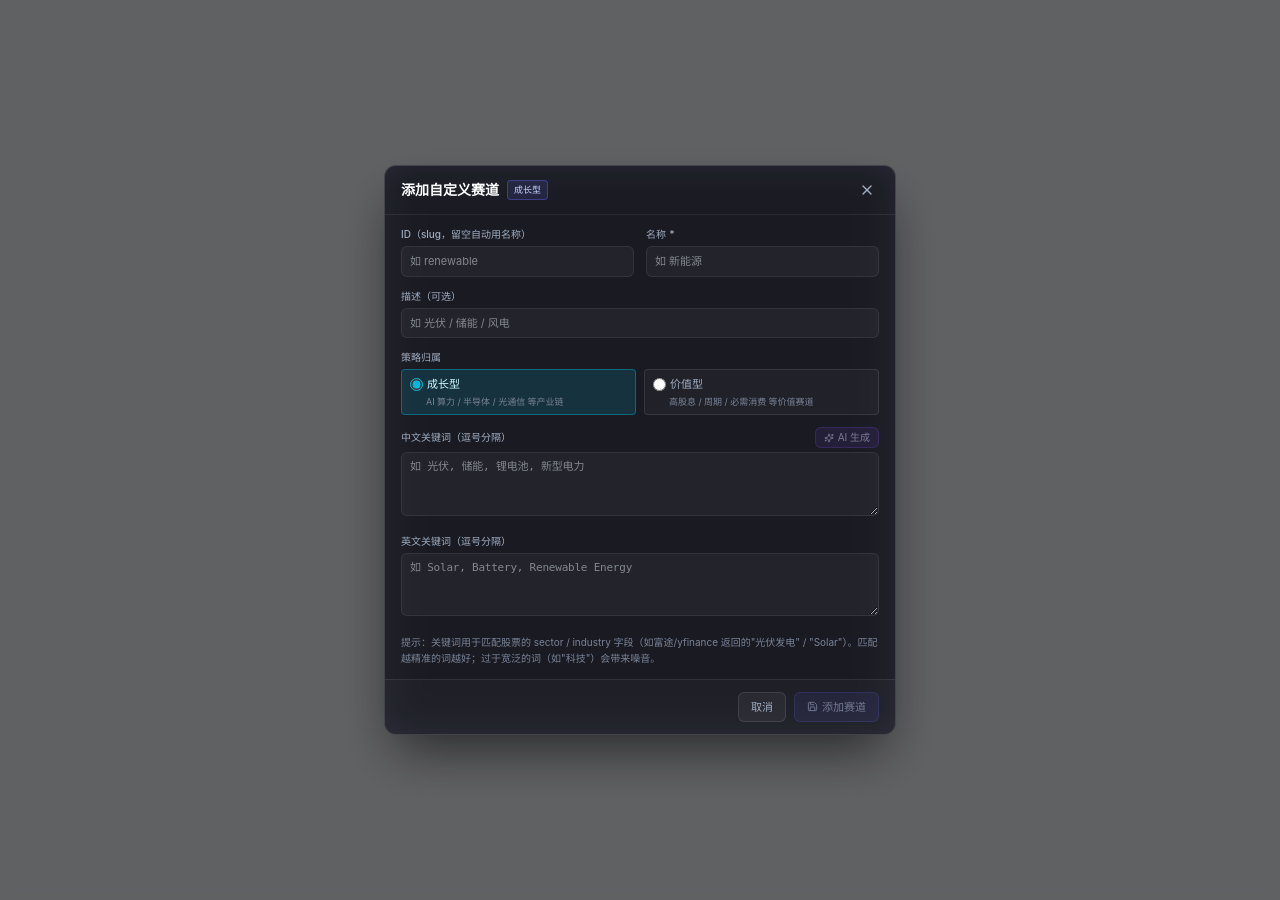
AddSupertrendDialog › 填了名称但关键词全空 → 保存触发校验错误
// 找名称 input — 通过 placeholder 区分
Type "测试赛道" into the field with placeholder "如 新能源". click: point(762, 261)
box: [646,246,879,276]
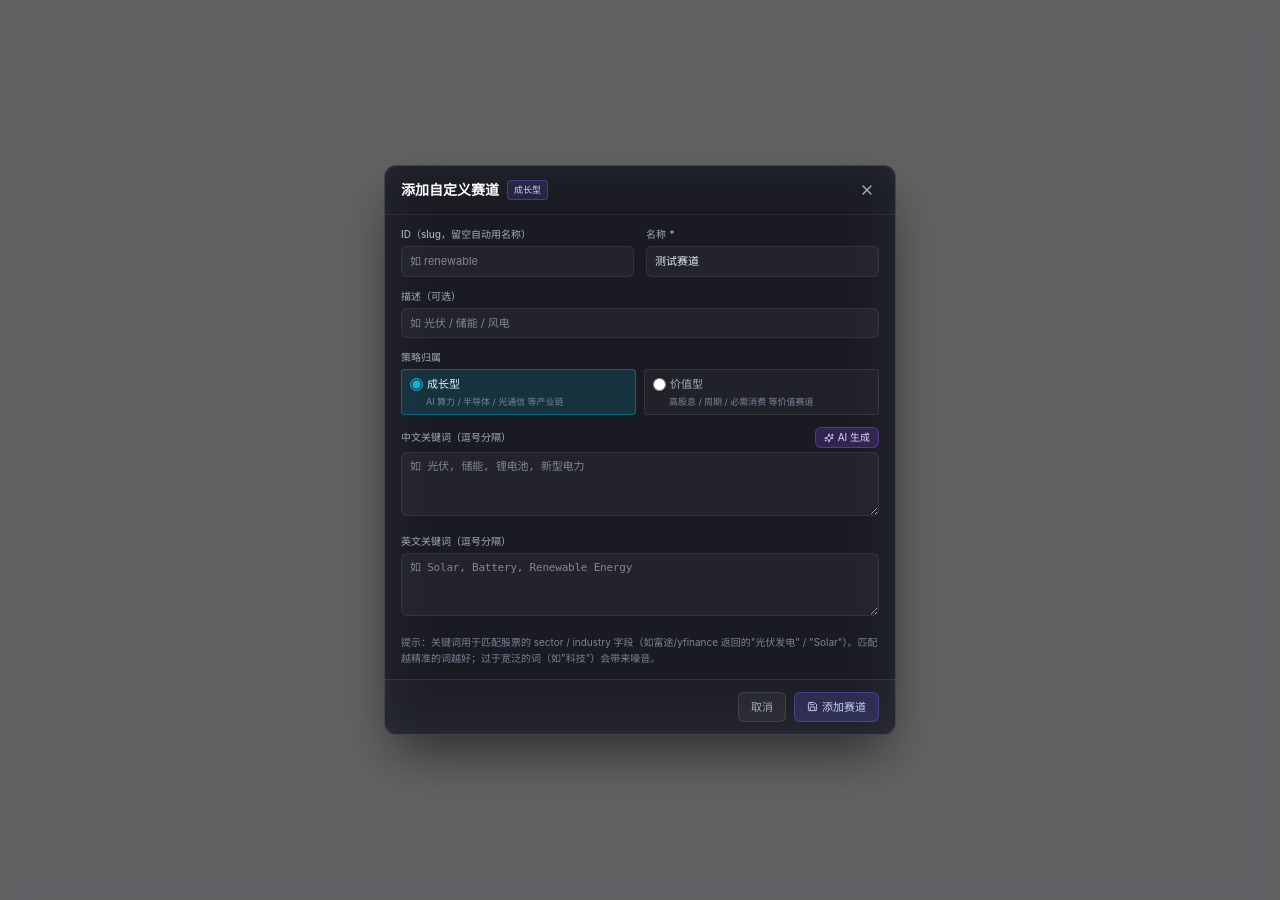
Click the button "添加赛道". click: point(836, 707)
box: [794,692,879,722]
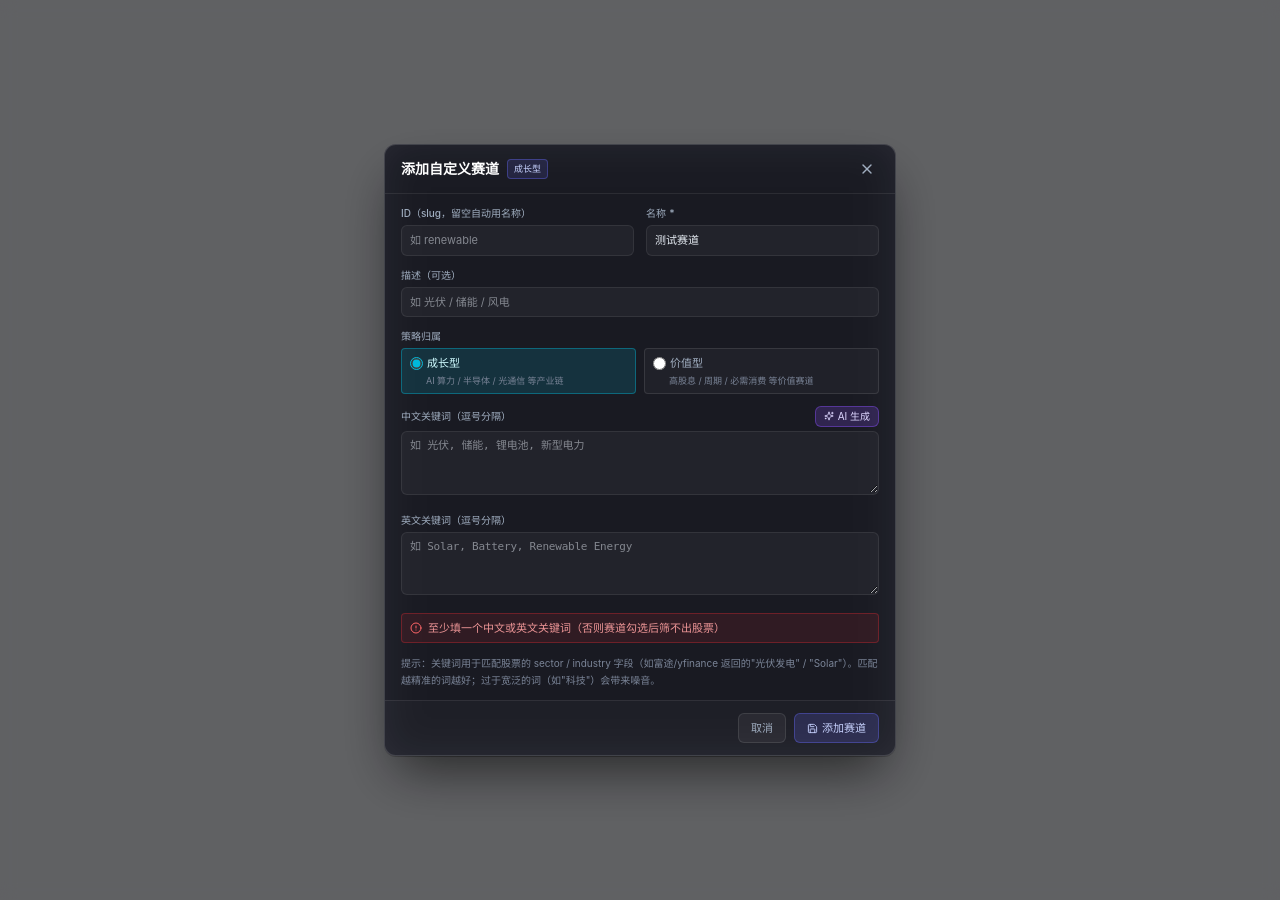
Check: the text "至少填一个中文或英文关键词（否则赛道勾选后筛不出股票）" is shown, box [428,620,725,636]
